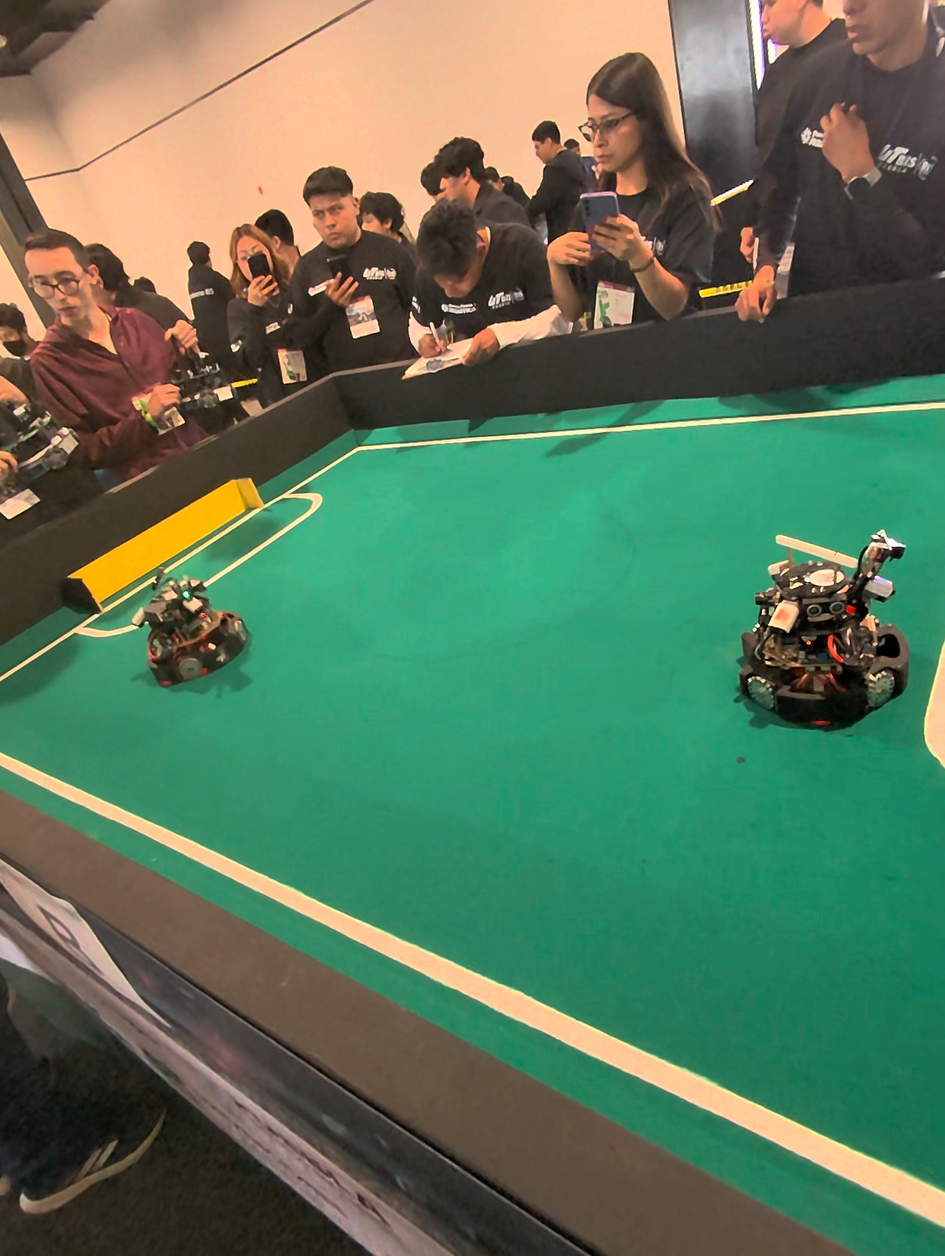Robot: (732, 501, 917, 740), (133, 578, 262, 691)
